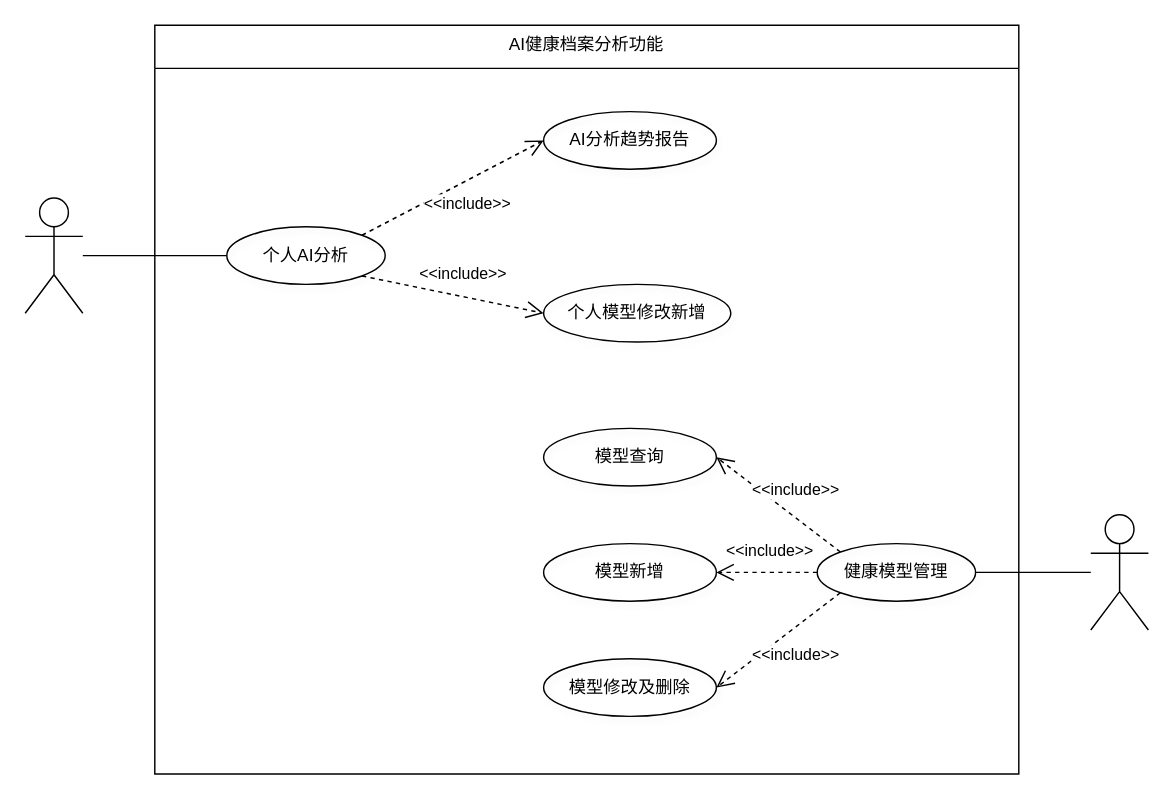
Some shapes in this 1174 by 799 pixel diagram are drawn without their labels. Here are the shapes that lost their labels. From the top down, the centre of each, then its label:
pixel 53 255: 用户
pixel 1118 571: 管理员
